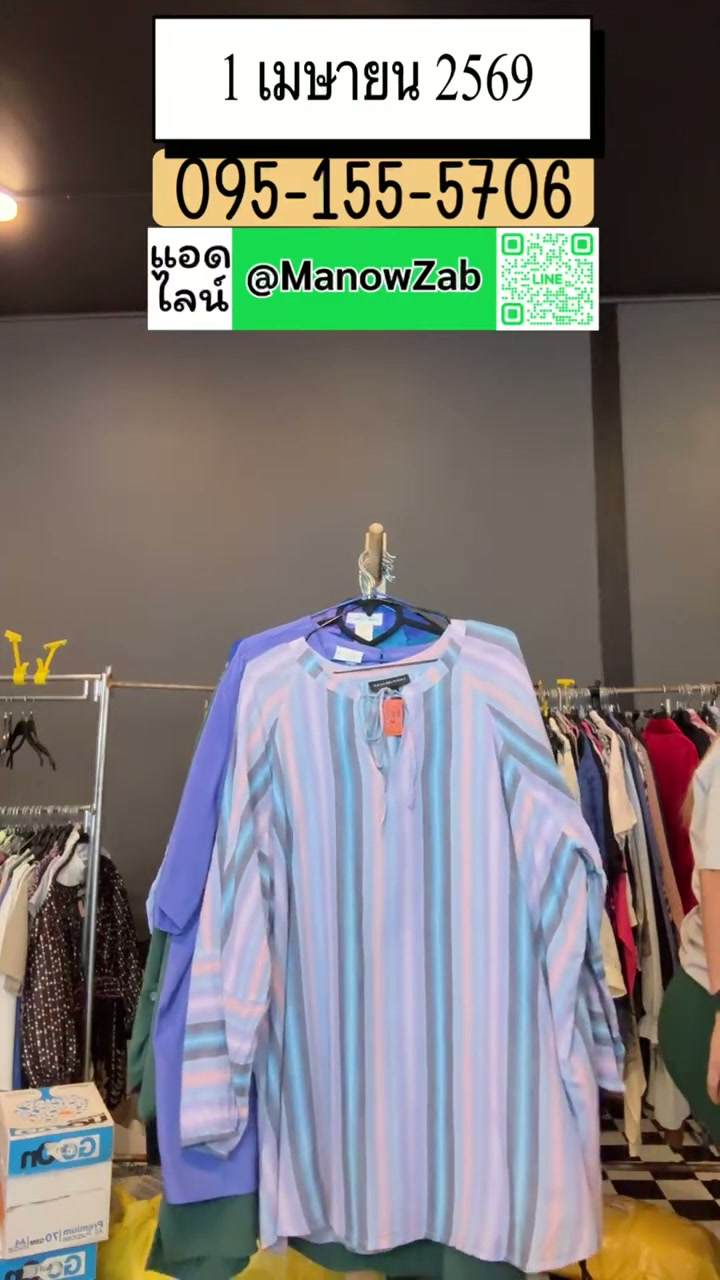display_shirt: (181, 621, 622, 1272)
